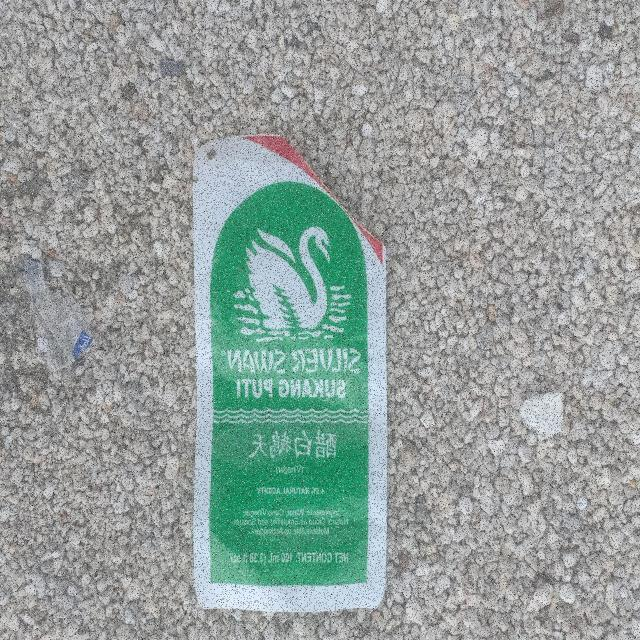plastic_waste: (193, 133, 390, 613)
